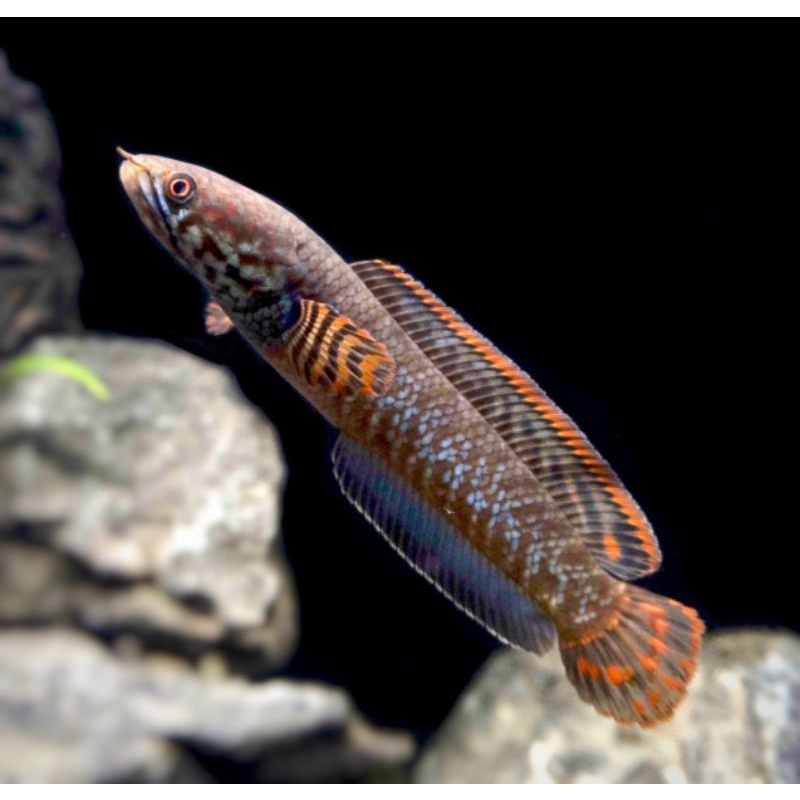Fish: (91, 95, 733, 747)
